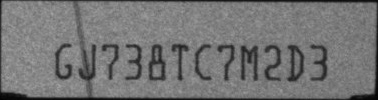2: (264, 44, 282, 81)
3: (123, 42, 142, 80), (310, 43, 329, 80)
7: (218, 43, 235, 81), (102, 42, 119, 79)
8: (148, 42, 166, 81)
C: (195, 43, 212, 80)
D: (286, 44, 305, 83)
G: (55, 43, 73, 79)
J: (78, 44, 97, 80)
M: (240, 43, 259, 81)
T: (171, 43, 189, 80)
